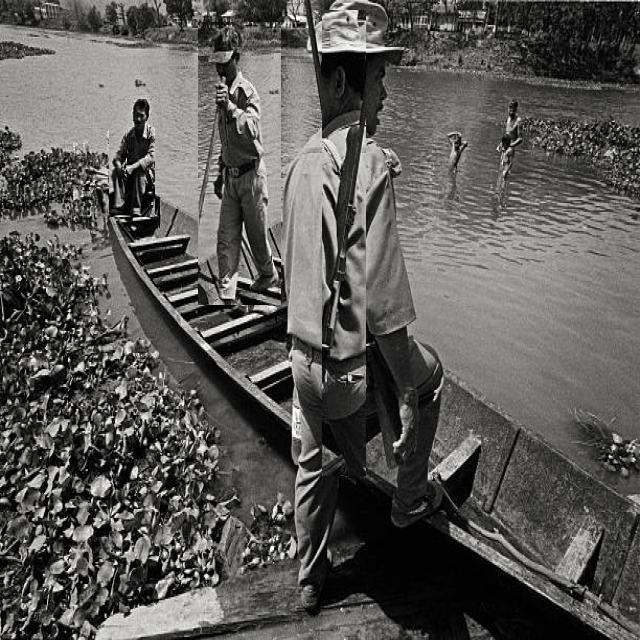poacher: (74, 84, 176, 308)
ranger: (282, 0, 450, 448), (165, 0, 284, 294)
weapon: (319, 111, 366, 406)
